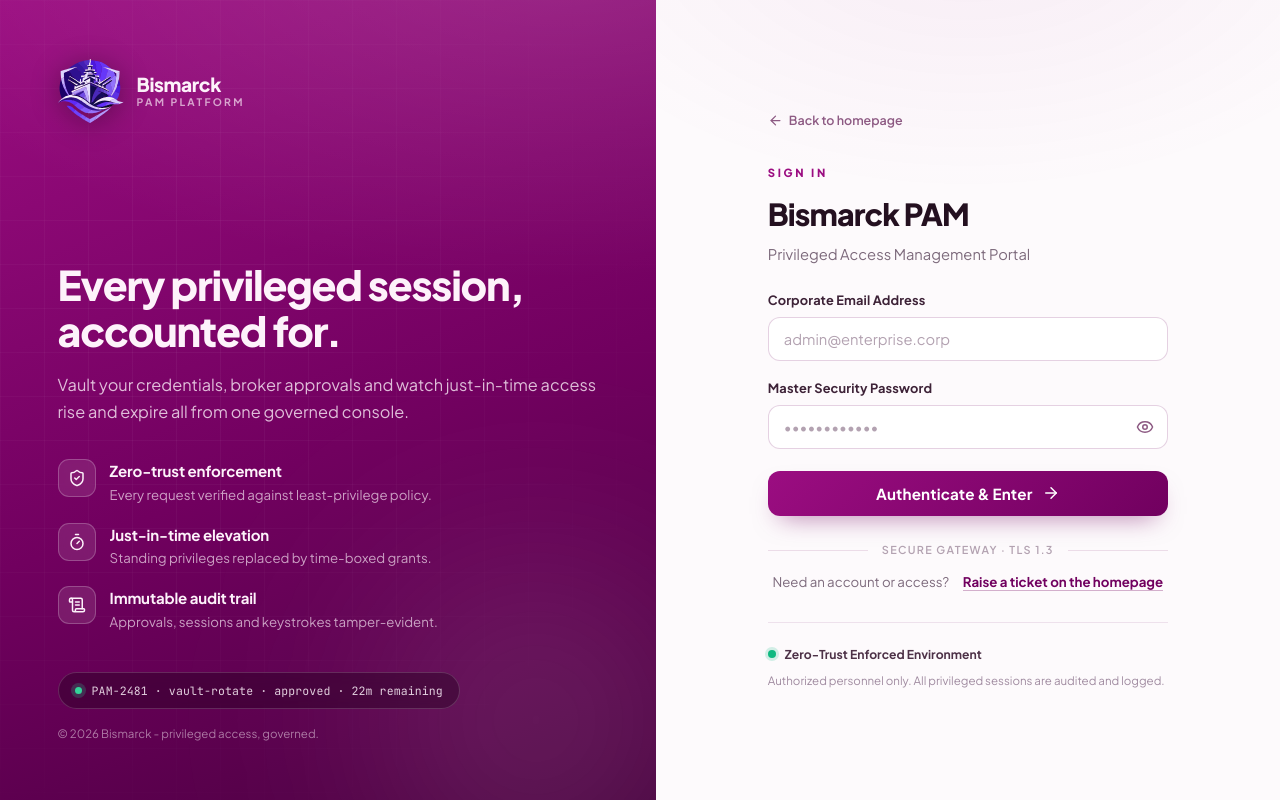
Scenario: Login Component › shows error if submitted with empty fields
Click the button "Authenticate & Enter": (968, 494) [768,471,1168,516]
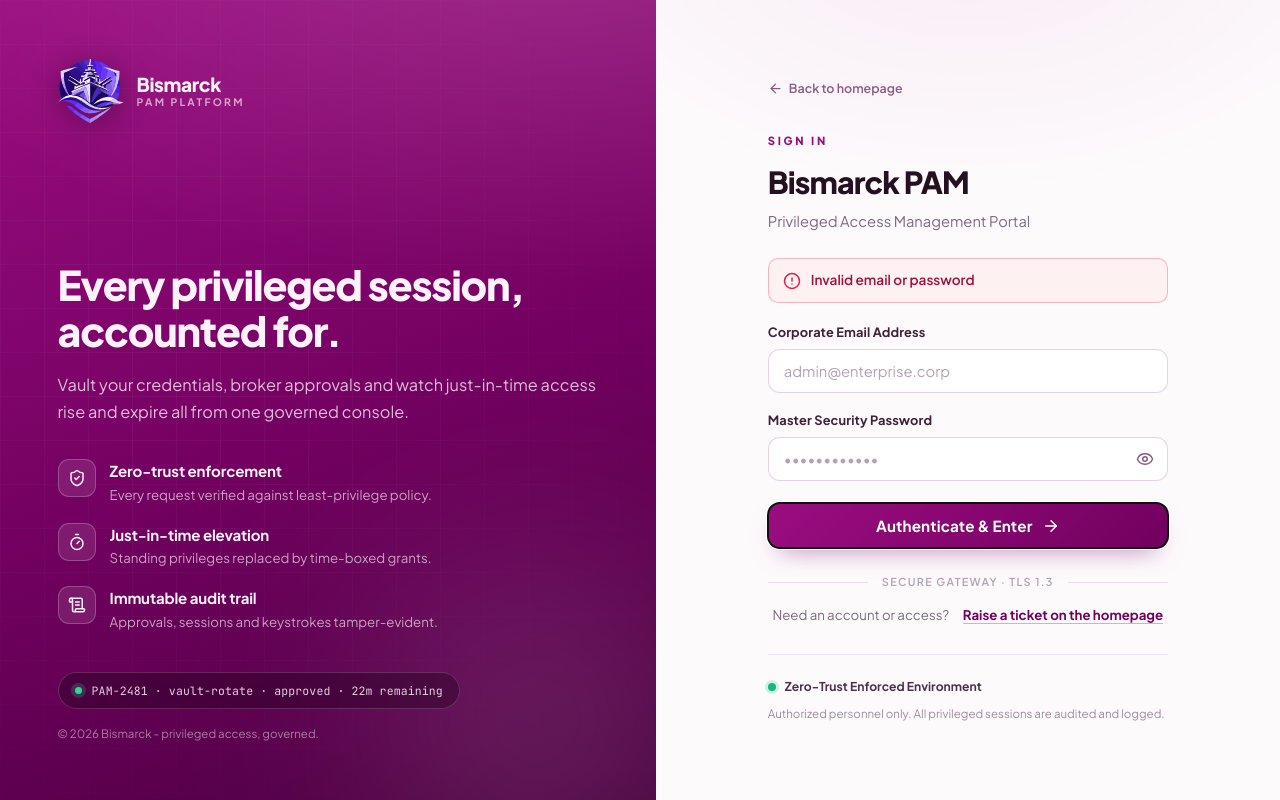
Now the message reads "Invalid email or password", box [811,271,975,288]
